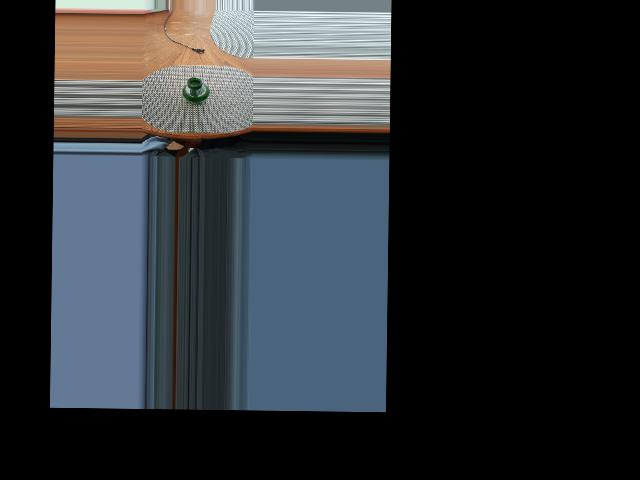beer: (183, 77, 209, 105)
